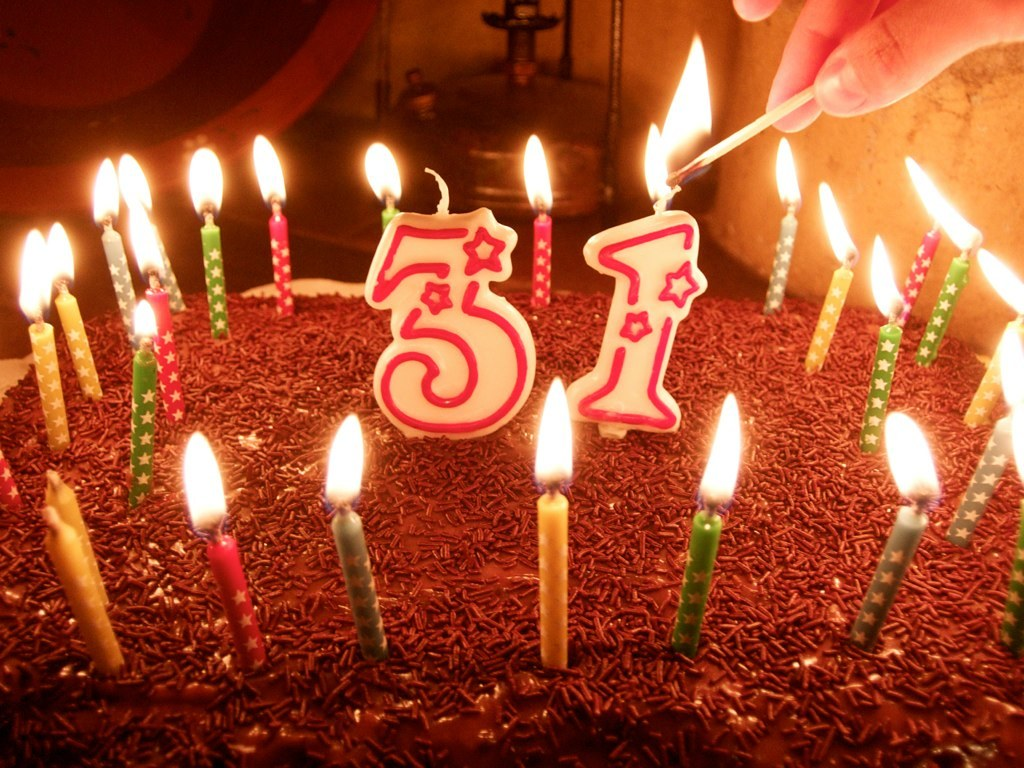cake: (0, 293, 1023, 767)
